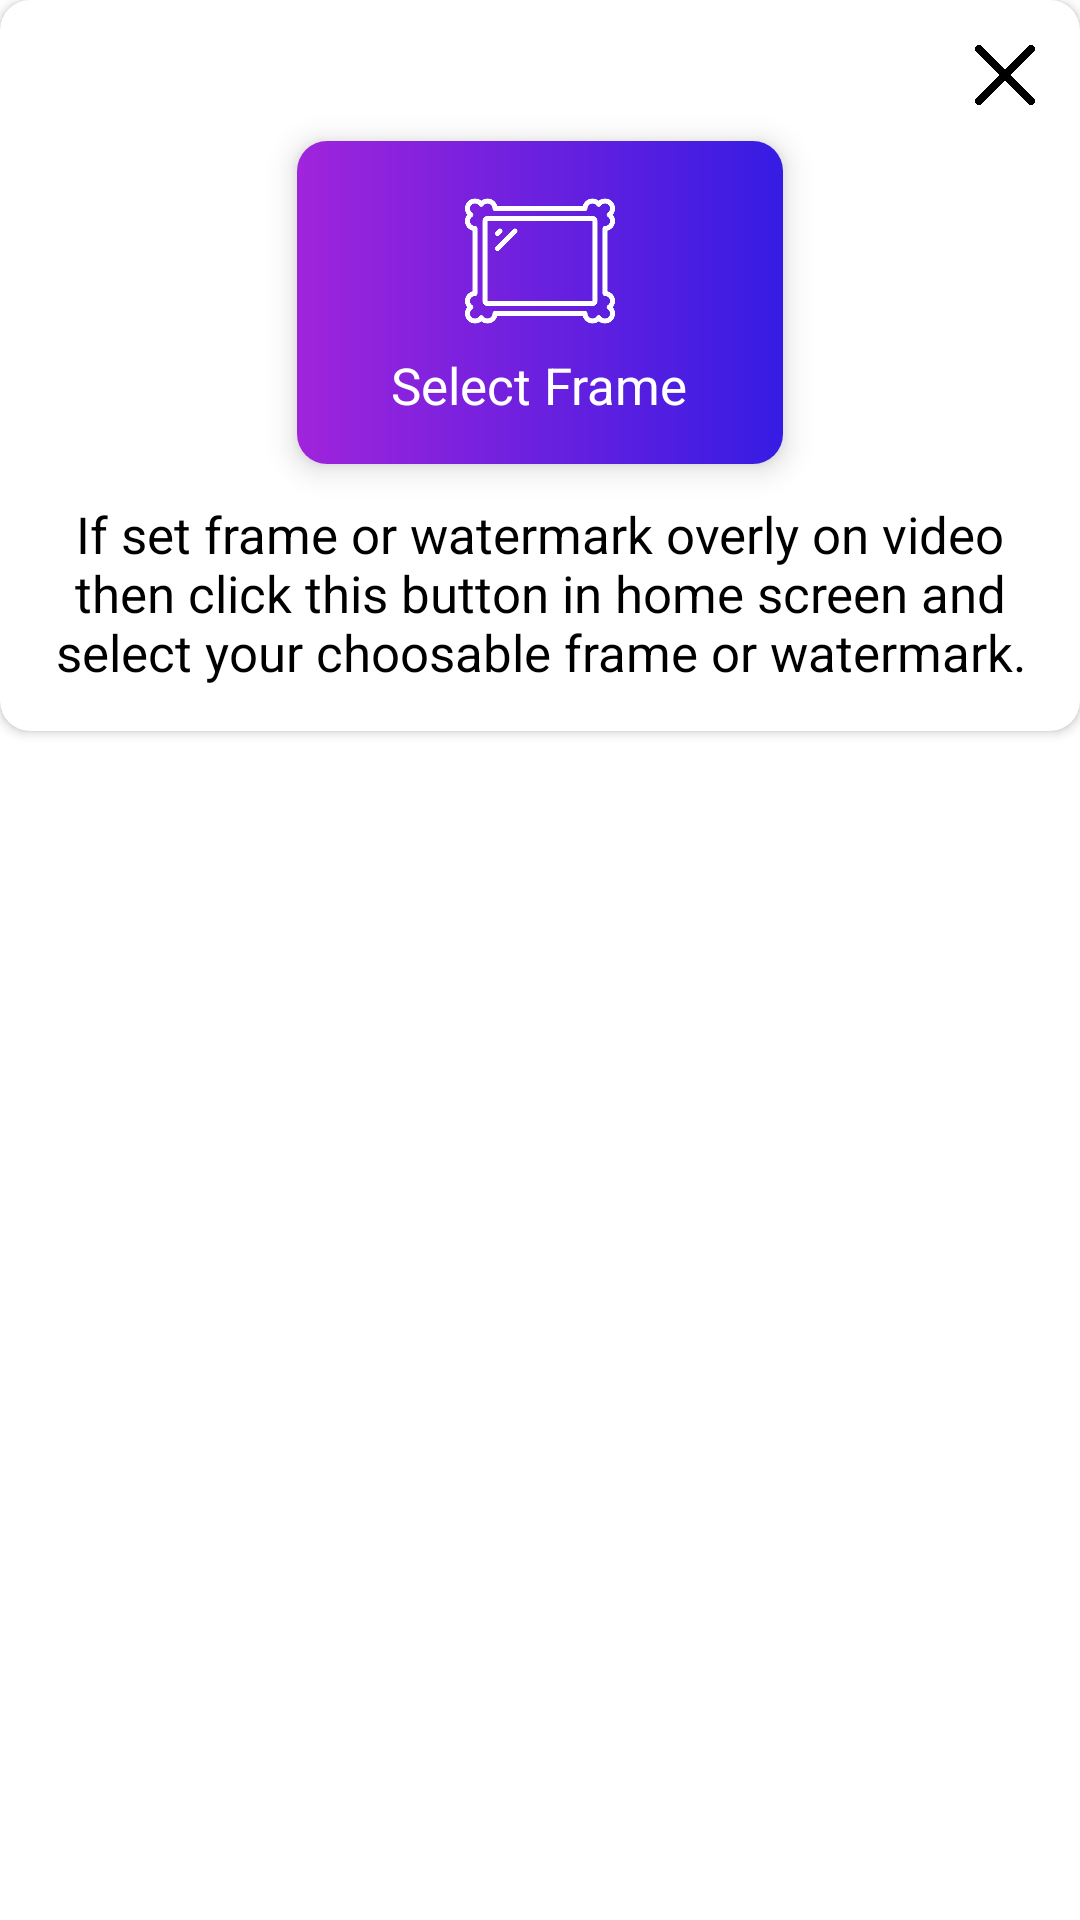

Where icons sit on this 1080×1920 app screen, as (x1, y1, x2, y2):
close: (975, 45, 1035, 105)
